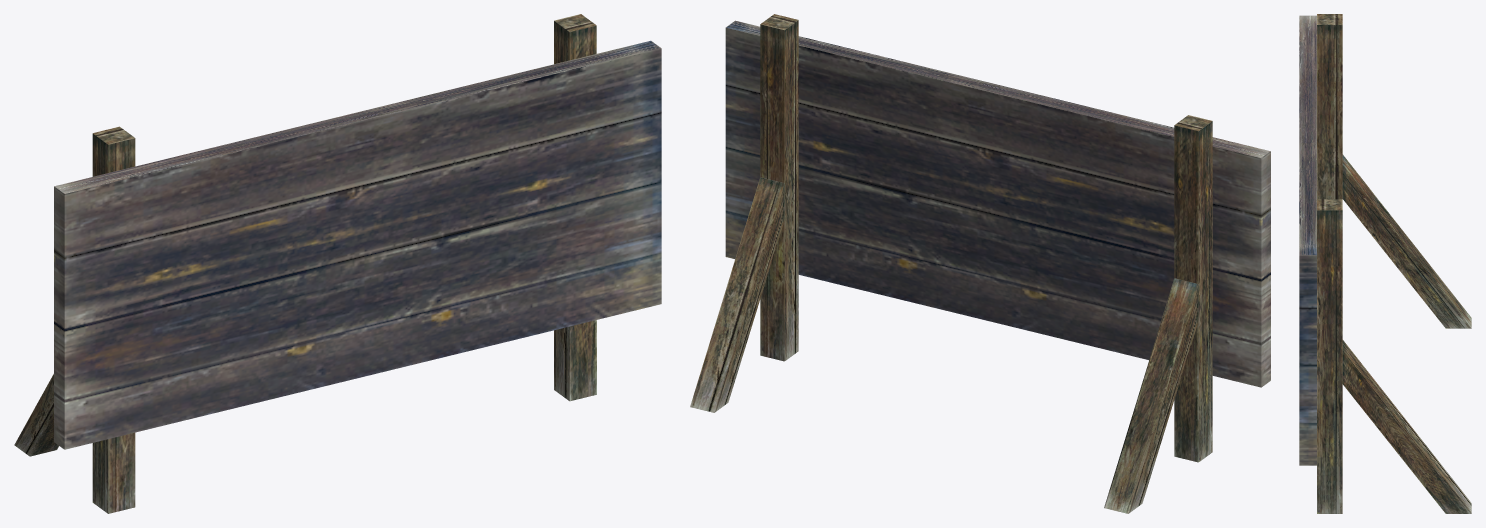
The model's file is m_opora1.glb.
The picture shows the model from 3 angles, left to right: view 1: azimuth 30°, elevation 25°; view 2: azimuth 150°, elevation 25°; view 3: azimuth 270°, elevation 25°; orthographic projection. The views are drawn at different scales.
Visible parts, largest first — view 1: m_opora1; view 2: m_opora1; view 3: m_opora1.
Part boxes in pixels (bbox=[...]): m_opora1: bbox=[14, 14, 661, 513]; m_opora1: bbox=[690, 14, 1270, 513]; m_opora1: bbox=[1299, 14, 1471, 513].
Bounding box in the file's own units: 2.2 × 1.3 × 0.668.
2 materials, 2 textured.
